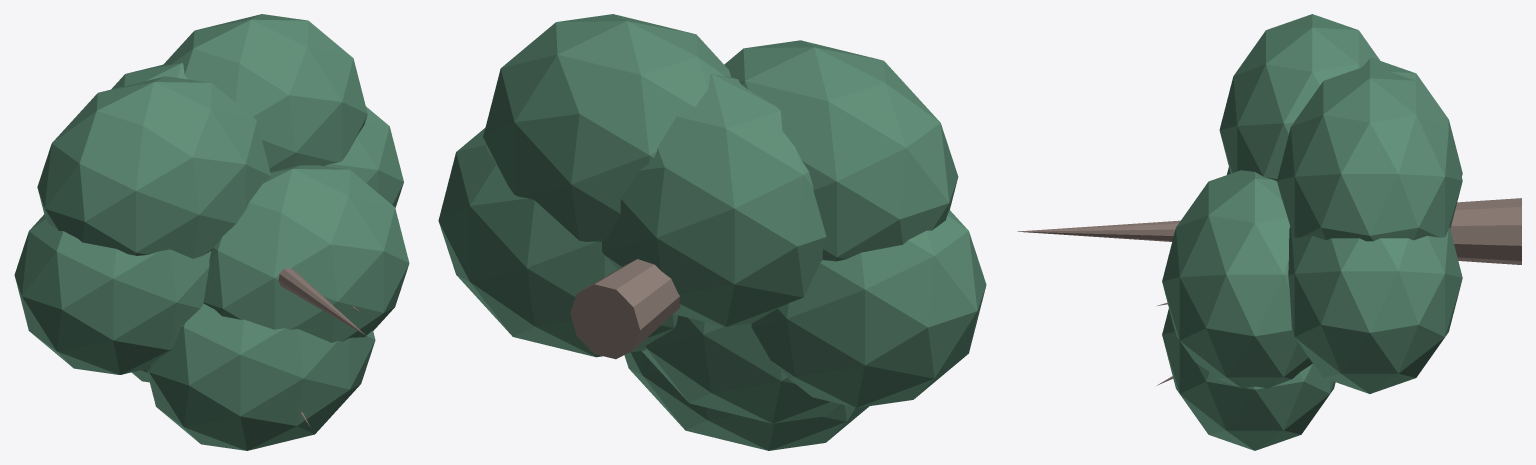
Rendered from VP_PROTOTYPE_TREE.glb.
3 renders of one model, left to right at view 1: azimuth 30°, elevation 25°; view 2: azimuth 150°, elevation 25°; view 3: azimuth 270°, elevation 25°, orthographic. The views are drawn at different scales.
Parts seen in each view (by area): view 1: world; view 2: world; view 3: world.
Part boxes in pixels (x1=…): world: x1=14, y1=14, x2=409, y2=450; world: x1=438, y1=14, x2=986, y2=450; world: x1=1017, y1=14, x2=1521, y2=450.
Bounding box in the file's own units: 2.83 × 2.5 × 3.
